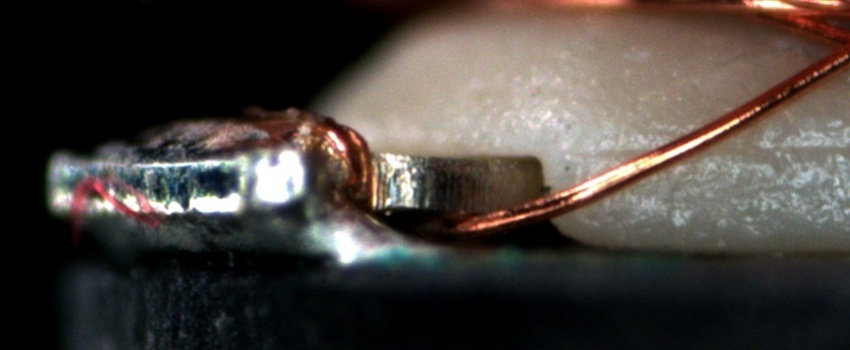CL: (814, 20, 848, 68)
DL: (588, 121, 849, 180)
TE: (274, 105, 377, 196)
